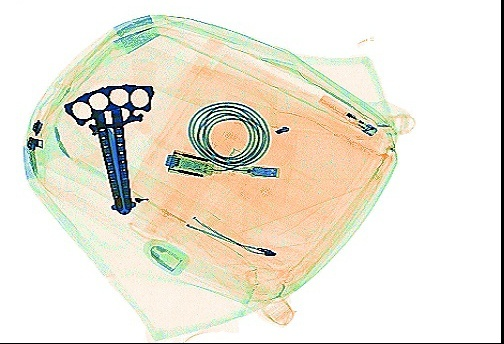knife: (92, 107, 135, 214)
lighter: (315, 93, 376, 135)
